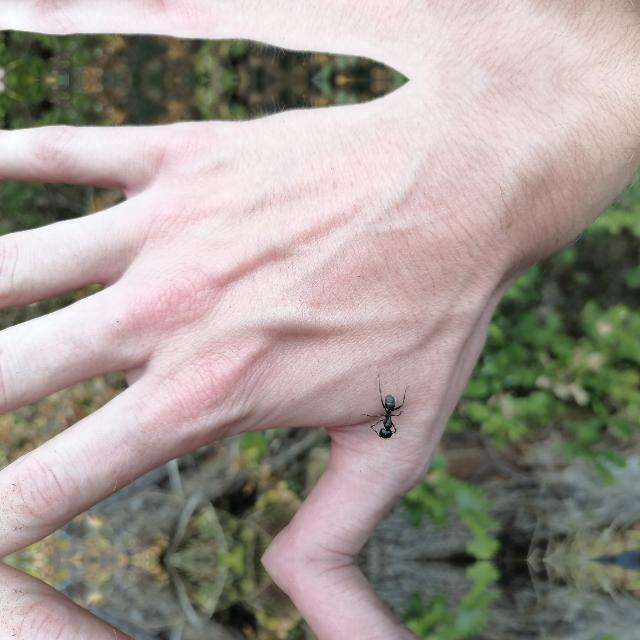Camponotus: (372, 385, 410, 449)
